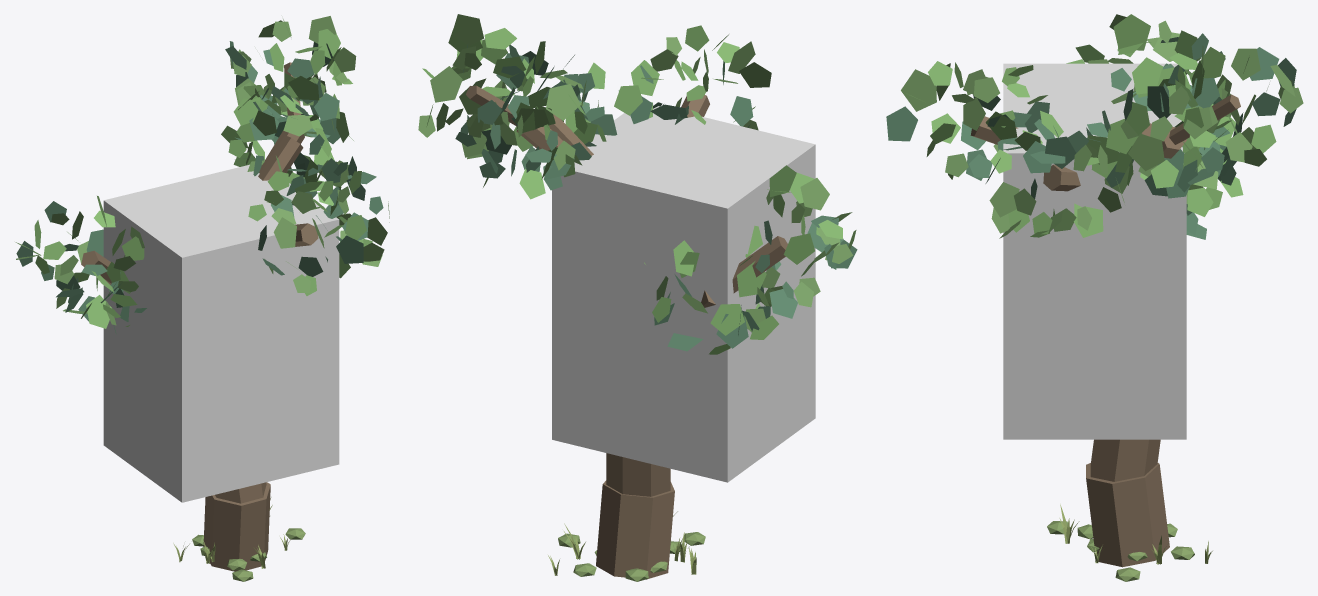
The model's file is tree_small.glb.
3 views of the same model, side by side, from view 1: azimuth 30°, elevation 25°; view 2: azimuth 150°, elevation 25°; view 3: azimuth 270°, elevation 25° (orthographic). The views are drawn at different scales.
Parts seen in each view (by area): view 1: COL_tree_small, Nt_TreeSmall; view 2: COL_tree_small, Nt_TreeSmall; view 3: Nt_TreeSmall, COL_tree_small.
Part boxes in pixels (x1,y1,x2,y2): COL_tree_small: [103, 164, 339, 502]; Nt_TreeSmall: [15, 16, 389, 581]; COL_tree_small: [552, 104, 815, 482]; Nt_TreeSmall: [418, 14, 857, 581]; Nt_TreeSmall: [886, 14, 1303, 581]; COL_tree_small: [1003, 63, 1186, 439].
Size of the model in its own units: 2.91 by 3.81 by 2.52.
